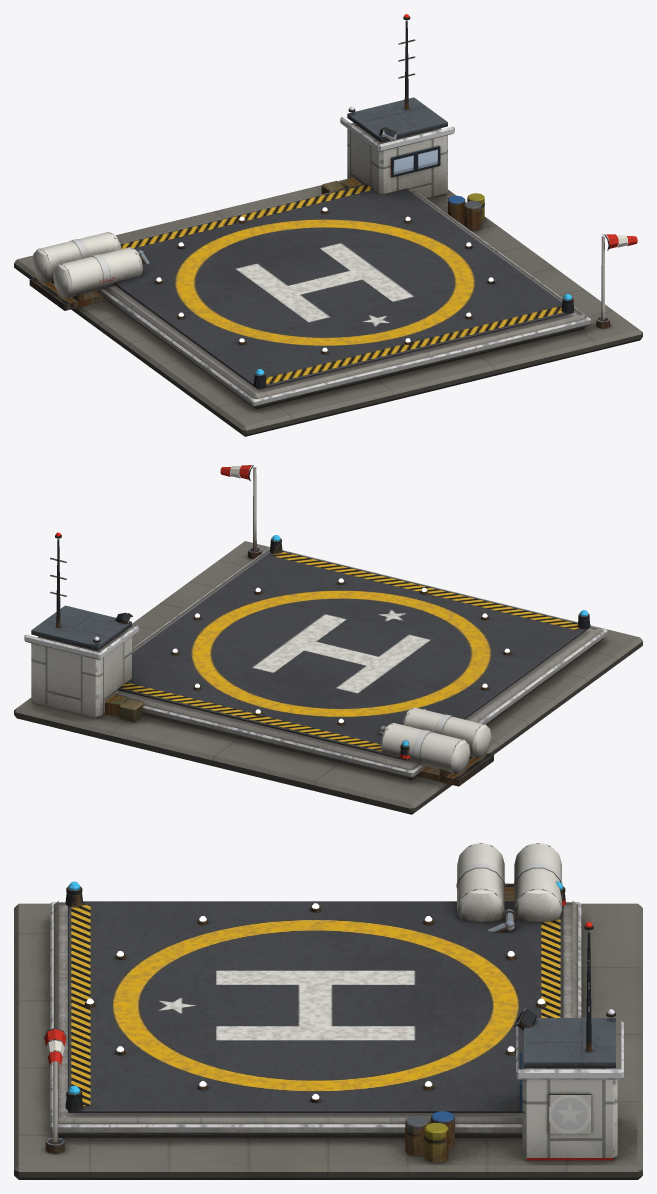
Rendered from hpad.allies.glb.
3 views of the same model, one above another, from view 1: azimuth 30°, elevation 25°; view 2: azimuth 150°, elevation 25°; view 3: azimuth 270°, elevation 25° (orthographic). The views are drawn at different scales.
Parts seen in each view (by area): view 1: root_mesh; view 2: root_mesh; view 3: root_mesh, sock_mesh.
Boxes of the visible parts, x1,y1,x2,y2 form: root_mesh: (14,14,642,436); root_mesh: (14,467,642,814); root_mesh: (14,843,642,1179); sock_mesh: (43,1028,66,1065).
Size of the model in its own units: 2.08 by 0.841 by 1.98.
Materials: 2 (1 with a texture image).
